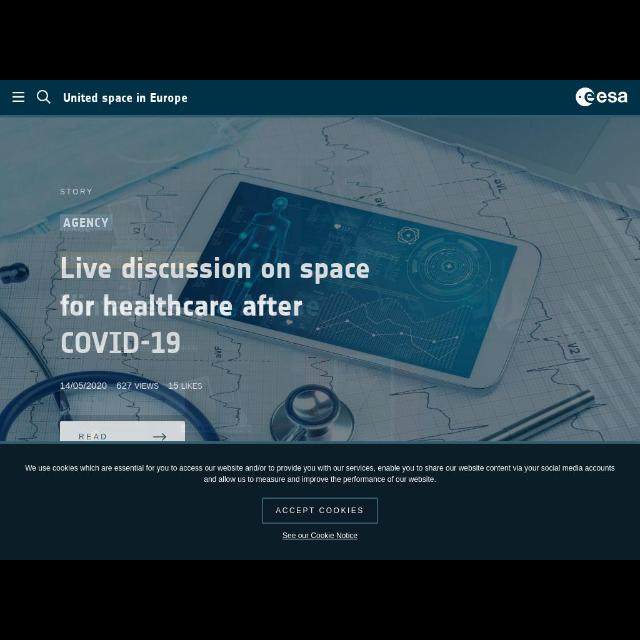backgroundimage: (1, 116, 640, 444)
icon: (36, 89, 52, 105), (11, 91, 25, 103), (151, 432, 167, 442)
image: (574, 87, 630, 107)
text: (60, 256, 370, 354), (23, 464, 617, 484), (62, 92, 188, 105), (60, 214, 112, 232), (284, 532, 358, 540), (61, 381, 107, 391), (116, 382, 160, 391), (170, 382, 202, 391), (60, 188, 92, 196), (78, 433, 108, 441)
textbutton: (262, 498, 378, 524), (61, 421, 186, 441)
toolbar: (1, 81, 640, 115)
